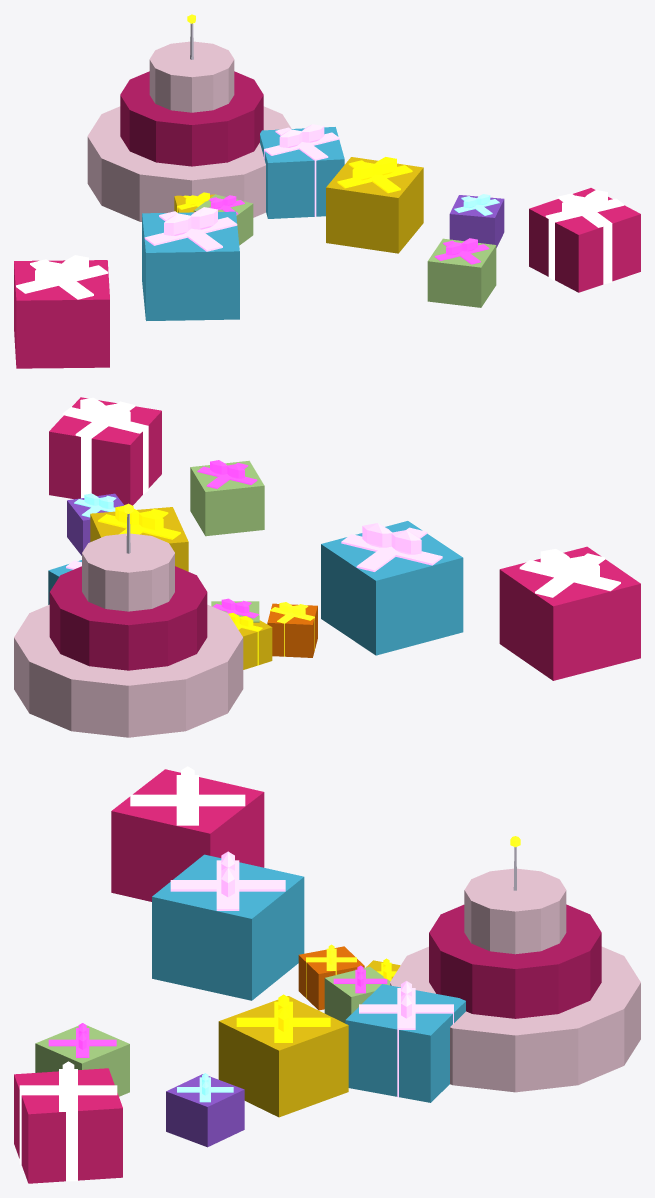
File: W6_Mid_Gifts.fbx
3 renders of one model, top to bottom at view 1: azimuth 30°, elevation 25°; view 2: azimuth 150°, elevation 25°; view 3: azimuth 270°, elevation 25°, orthographic. The views are drawn at different scales.
Visible parts, largest first — view 1: W6_Mid_Gifts; view 2: W6_Mid_Gifts; view 3: W6_Mid_Gifts.
Part boxes in pixels (x1=…): W6_Mid_Gifts: x1=14, y1=14, x2=640, y2=368; W6_Mid_Gifts: x1=14, y1=397, x2=640, y2=737; W6_Mid_Gifts: x1=14, y1=766, x2=640, y2=1183.
Bounding box in the file's own units: 100 × 28.6 × 79.91.
